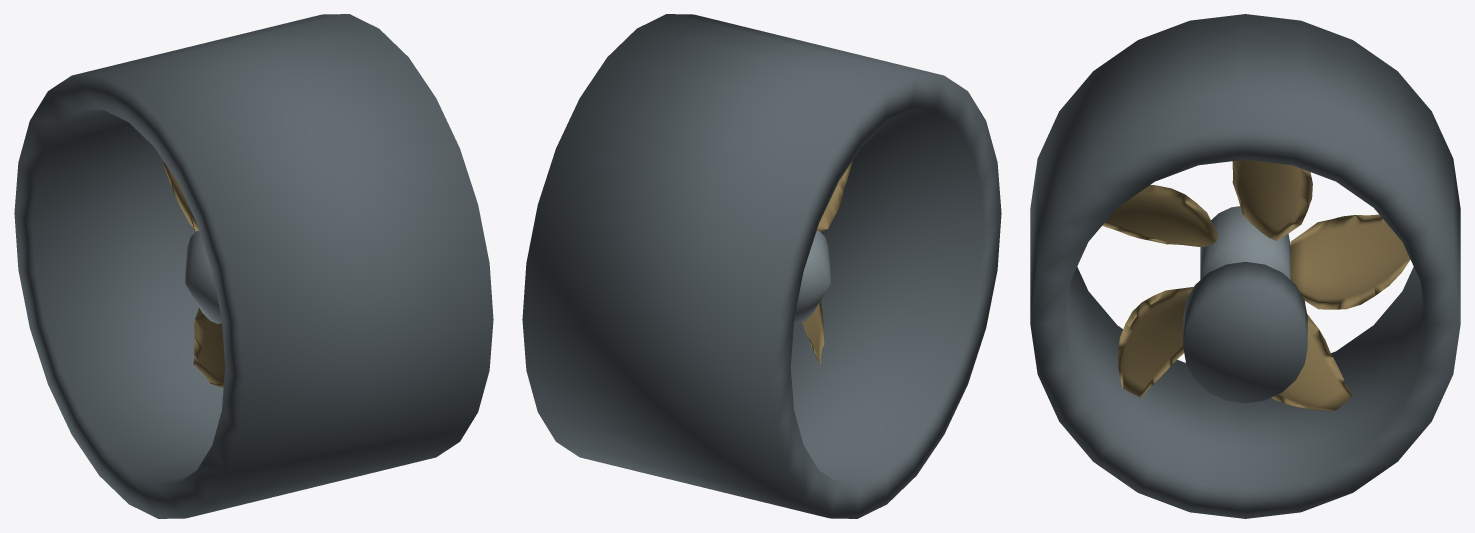
The model's file is THRUSTER_TUNNEL_LOD1.fbx.
The picture shows the model from 3 angles, left to right: view 1: azimuth 30°, elevation 25°; view 2: azimuth 150°, elevation 25°; view 3: azimuth 270°, elevation 25°; orthographic projection. The views are drawn at different scales.
Parts seen in each view (by area): view 1: THRUSTER_TUNNEL_LOD1_Duct.001, THRUSTER_TUNNEL_LOD1_Hub.001, THRUSTER_TUNNEL_LOD1_Impeller_04.001, THRUSTER_TUNNEL_LOD1_Impeller_00.001; view 2: THRUSTER_TUNNEL_LOD1_Duct.001, THRUSTER_TUNNEL_LOD1_Hub.001, THRUSTER_TUNNEL_LOD1_Impeller_03.001, THRUSTER_TUNNEL_LOD1_Impeller_02.001; view 3: THRUSTER_TUNNEL_LOD1_Duct.001, THRUSTER_TUNNEL_LOD1_MountFlange.001, THRUSTER_TUNNEL_LOD1_Impeller_00.001, THRUSTER_TUNNEL_LOD1_Impeller_03.001, THRUSTER_TUNNEL_LOD1_Impeller_01.001, THRUSTER_TUNNEL_LOD1_Impeller_02.001, THRUSTER_TUNNEL_LOD1_Hub.001, THRUSTER_TUNNEL_LOD1_Impeller_04.001.
Part boxes in pixels (x1,y1,x2,y2): THRUSTER_TUNNEL_LOD1_Duct.001: (14, 14, 493, 518); THRUSTER_TUNNEL_LOD1_Hub.001: (185, 231, 221, 323); THRUSTER_TUNNEL_LOD1_Impeller_04.001: (193, 307, 225, 387); THRUSTER_TUNNEL_LOD1_Impeller_00.001: (163, 162, 198, 231); THRUSTER_TUNNEL_LOD1_Duct.001: (522, 14, 1001, 518); THRUSTER_TUNNEL_LOD1_Hub.001: (794, 231, 830, 323); THRUSTER_TUNNEL_LOD1_Impeller_03.001: (802, 301, 824, 367); THRUSTER_TUNNEL_LOD1_Impeller_02.001: (817, 161, 852, 232); THRUSTER_TUNNEL_LOD1_Duct.001: (1030, 14, 1460, 518); THRUSTER_TUNNEL_LOD1_MountFlange.001: (1183, 261, 1307, 403); THRUSTER_TUNNEL_LOD1_Impeller_00.001: (1290, 214, 1410, 309); THRUSTER_TUNNEL_LOD1_Impeller_03.001: (1117, 287, 1193, 397); THRUSTER_TUNNEL_LOD1_Impeller_01.001: (1232, 159, 1312, 240); THRUSTER_TUNNEL_LOD1_Impeller_02.001: (1102, 185, 1219, 246); THRUSTER_TUNNEL_LOD1_Hub.001: (1200, 206, 1290, 279); THRUSTER_TUNNEL_LOD1_Impeller_04.001: (1271, 314, 1352, 411).
Size of the model in its own units: 144 by 190 by 190.
